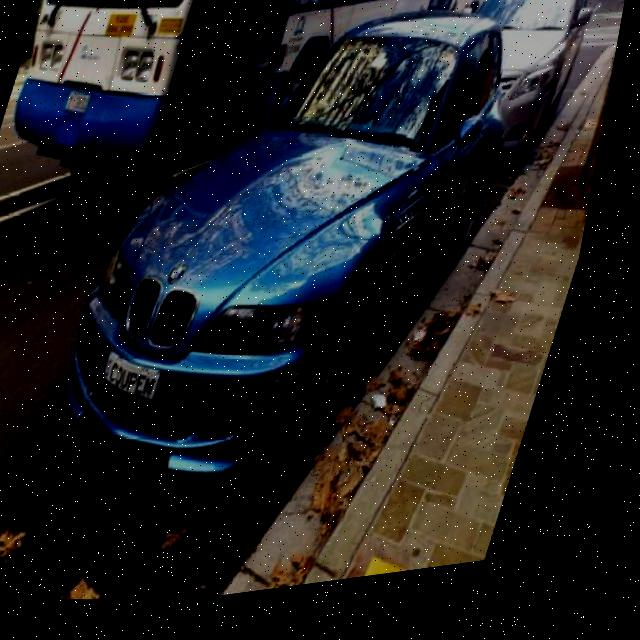license_plate: (66, 92, 96, 120)
